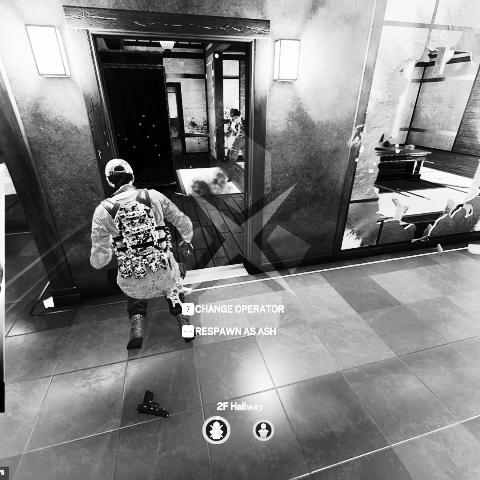Character: (89, 157, 196, 351), (225, 106, 246, 184)
Head: (104, 158, 136, 191), (229, 107, 241, 125)
